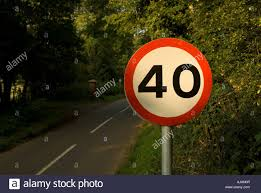Speed_limit_40km: (123, 37, 213, 125)
